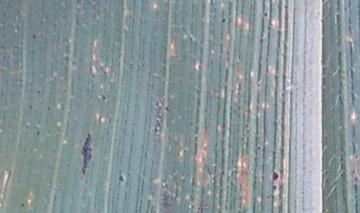tarspot: (79, 131, 93, 174), (271, 170, 280, 183), (98, 92, 107, 102), (116, 174, 125, 182), (70, 59, 78, 68), (262, 10, 269, 20), (30, 33, 38, 41), (255, 144, 263, 151), (19, 201, 26, 209), (271, 184, 278, 191), (220, 17, 227, 24), (164, 105, 171, 112), (34, 130, 41, 137), (28, 103, 34, 110), (35, 88, 41, 94), (75, 1, 83, 5), (46, 104, 50, 111), (321, 1, 326, 4)
